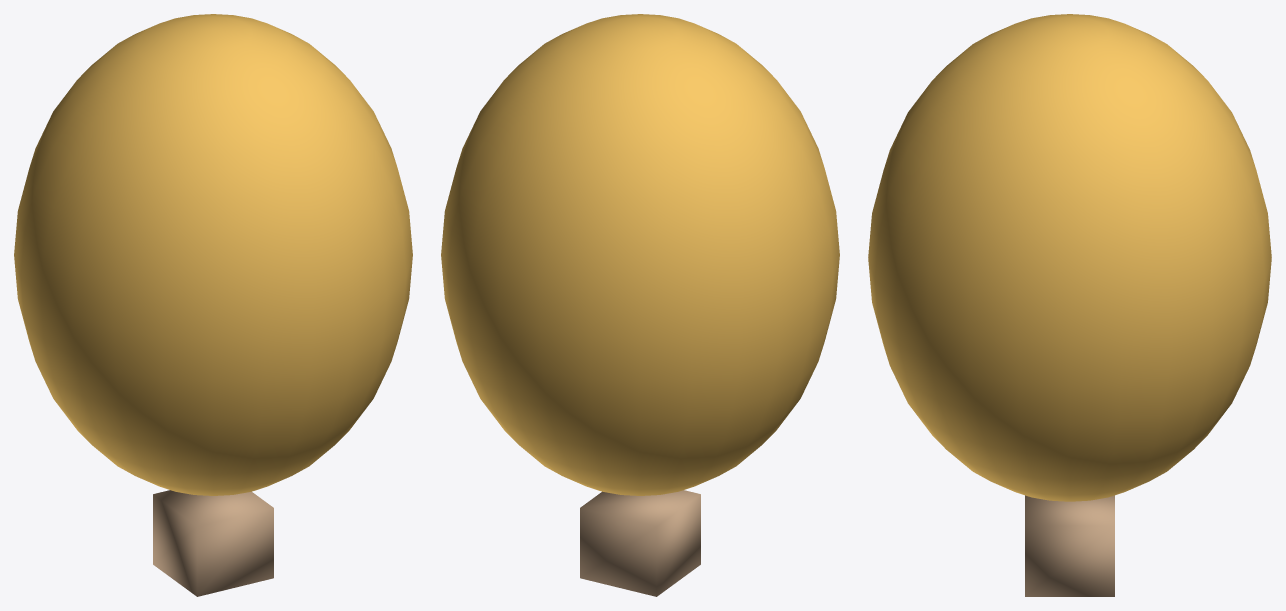
File: hot_air_balloon.glb
3 views of the same model, side by side, from view 1: azimuth 30°, elevation 25°; view 2: azimuth 150°, elevation 25°; view 3: azimuth 270°, elevation 25° (orthographic).
Visible parts, largest first — view 1: envelope, basket; view 2: envelope, basket; view 3: envelope, basket.
Boxes of the visible parts, x1,y1,x2,y2 form: envelope: [14, 14, 412, 495]; basket: [153, 490, 273, 596]; envelope: [441, 14, 839, 495]; basket: [580, 490, 700, 596]; envelope: [868, 14, 1271, 501]; basket: [1025, 495, 1114, 596].
Bounding box in the file's own units: 1.8 × 2.7 × 1.8.
